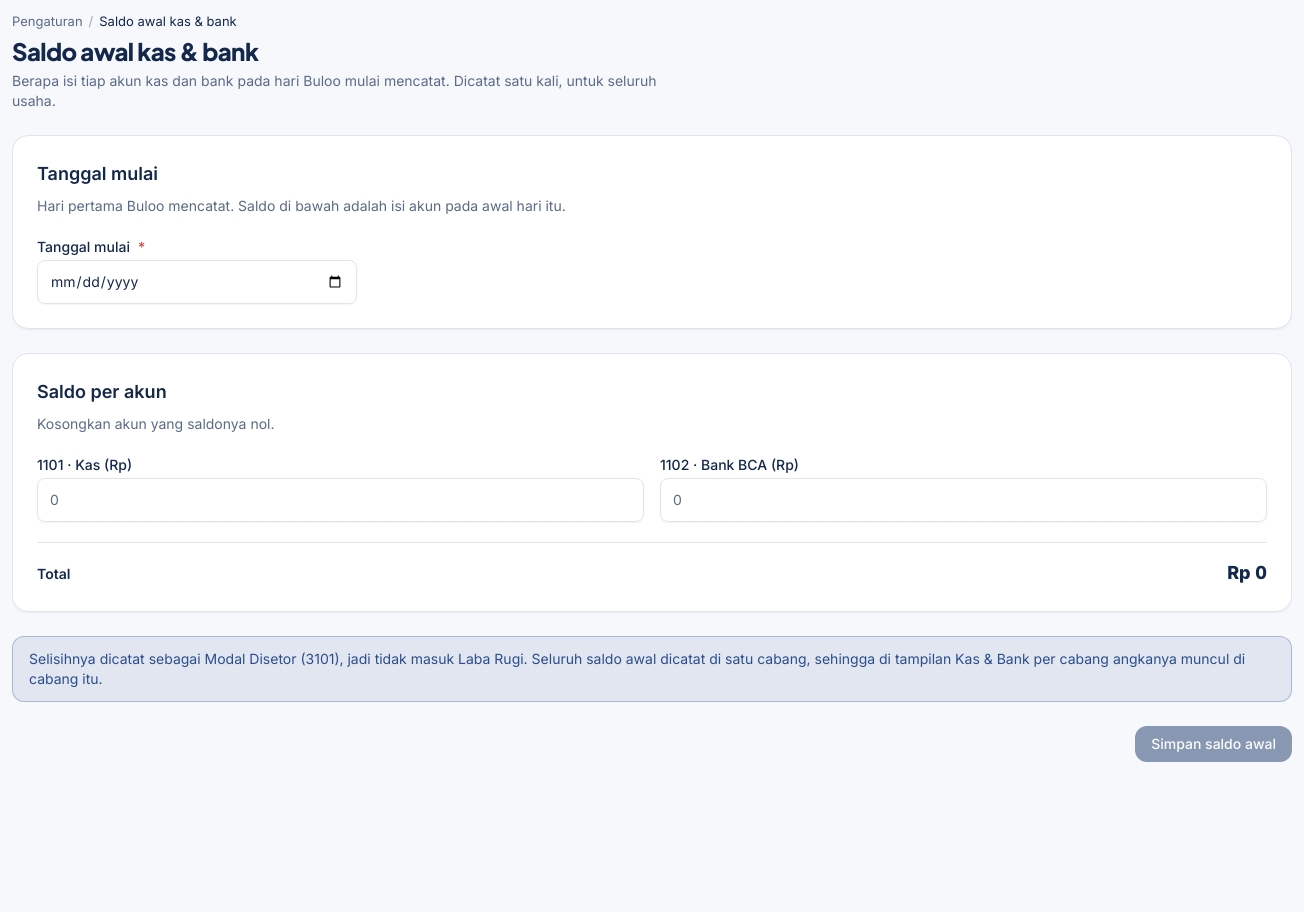
CashBankOpeningScreen › does not offer to save until there is a date and an amount
Check: the button "Simpan saldo awal" is disabled, box [1135,726,1292,762]
Type "1500000" into the field labelled "1101 · Kas (Rp)". click: (340, 500)
box: [37,478,644,522]
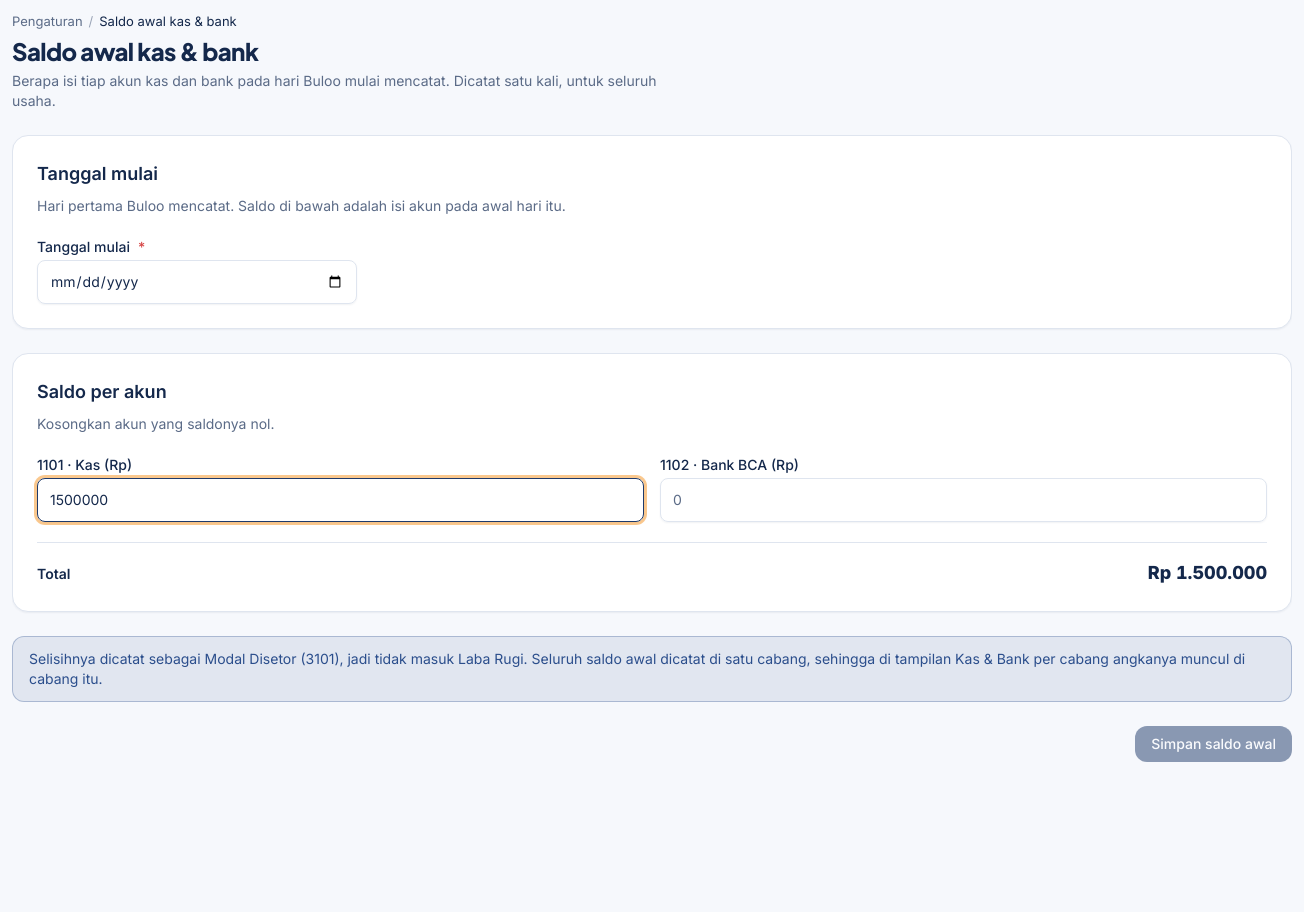
Check: the button "Simpan saldo awal" is disabled, box [1135,726,1292,762]
Type "2026-01-01" into the date field labelled "Tanggal mulai *". click: (197, 282)
box: [37,260,357,304]
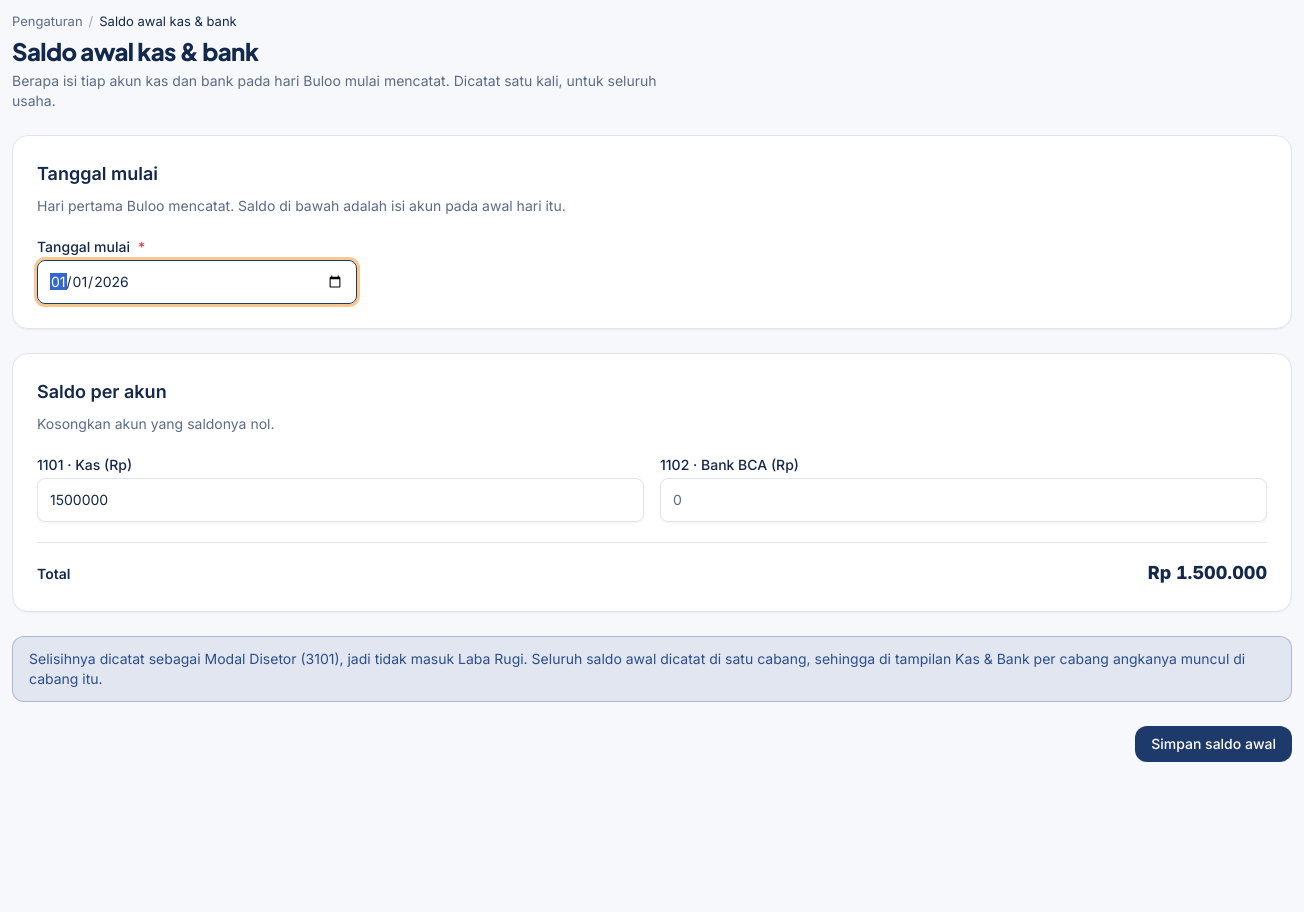
Check: the button "Simpan saldo awal" is enabled, box [1135,726,1292,762]
